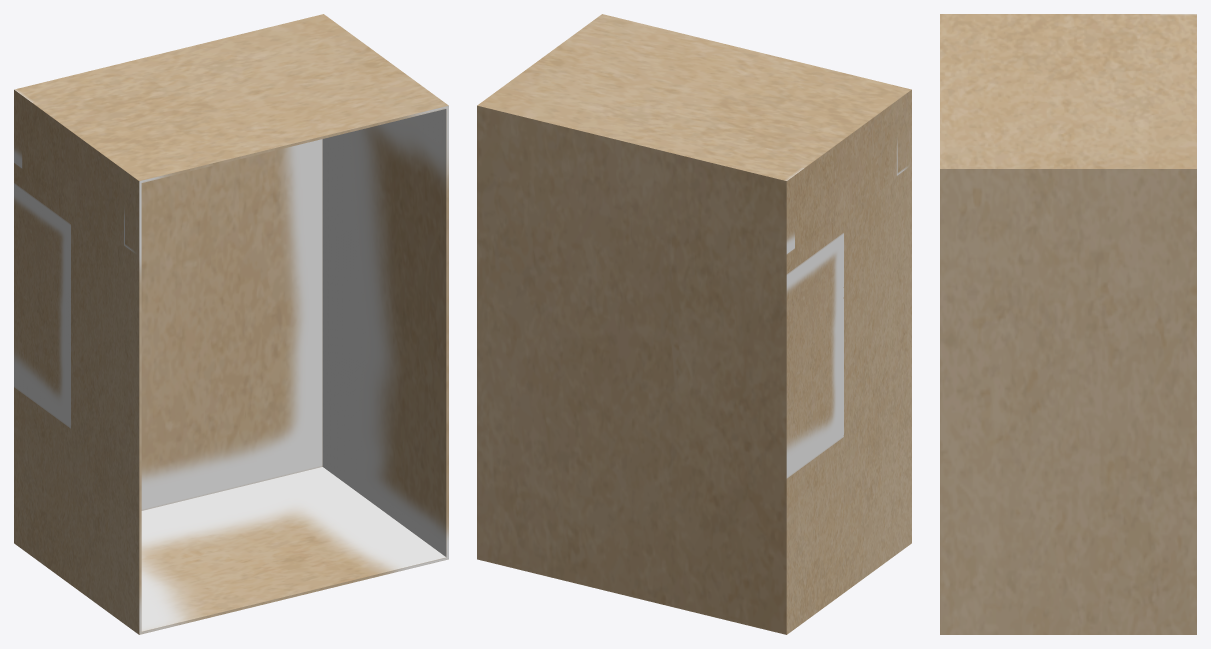
File: cardboardbox.obj
The picture shows the model from 3 angles, left to right: view 1: azimuth 30°, elevation 25°; view 2: azimuth 150°, elevation 25°; view 3: azimuth 270°, elevation 25°; orthographic projection. The views are drawn at different scales.
Parts seen in each view (by area): view 1: cardboard_box; view 2: cardboard_box; view 3: cardboard_box.
Boxes of the visible parts, box(x1,y1,x2,y2) form: cardboard_box: box(14, 14, 448, 634); cardboard_box: box(477, 14, 911, 634); cardboard_box: box(940, 14, 1196, 634).
Bounding box in the file's own units: 25 × 35 × 17.5.
1 material, 1 textured.
